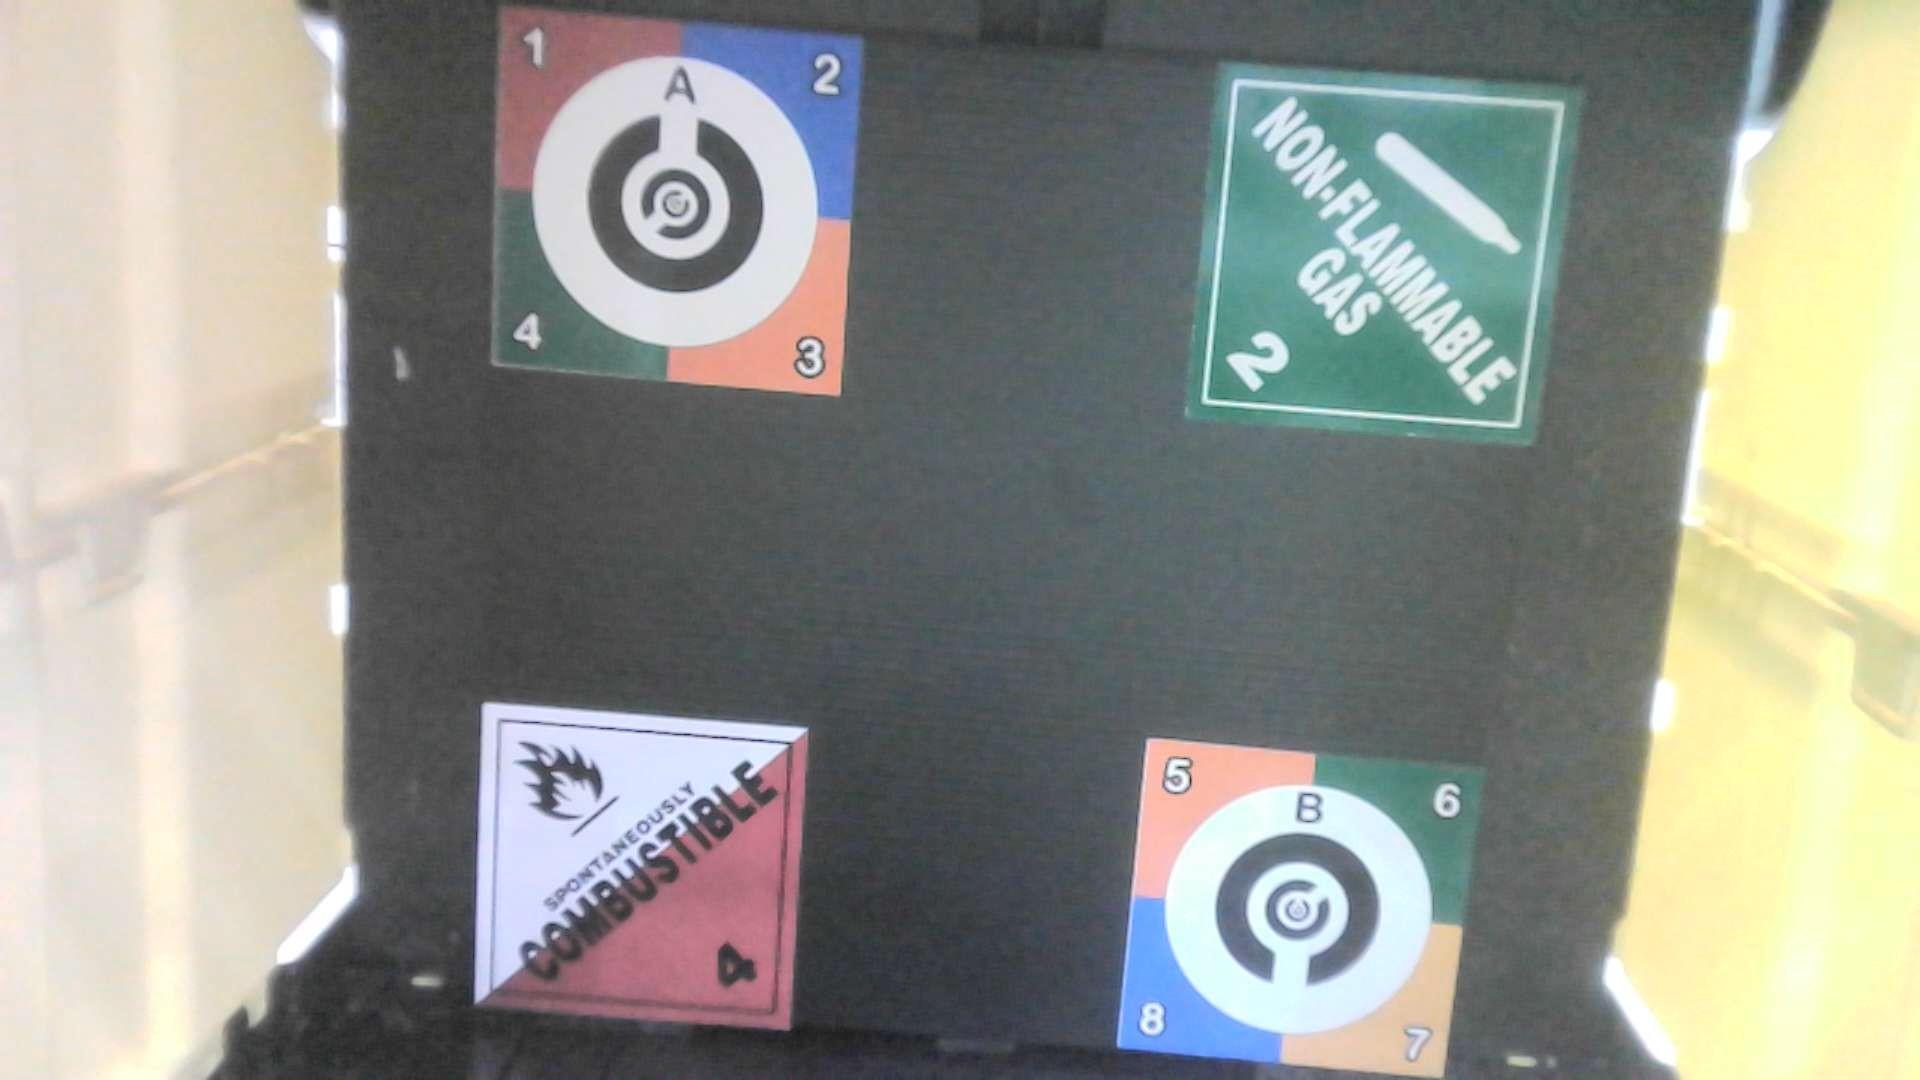non-flammable-gas: (1170, 46, 1604, 462)
spontaneously-combustible: (464, 699, 844, 1048)
